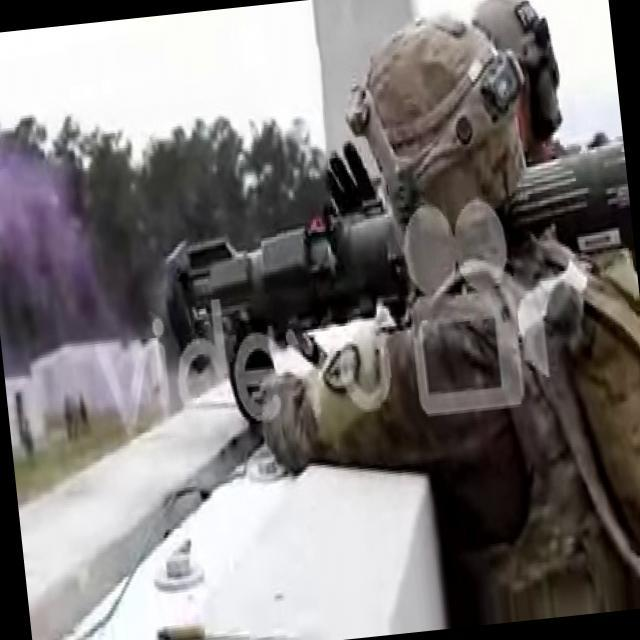rocket: (155, 139, 640, 361)
